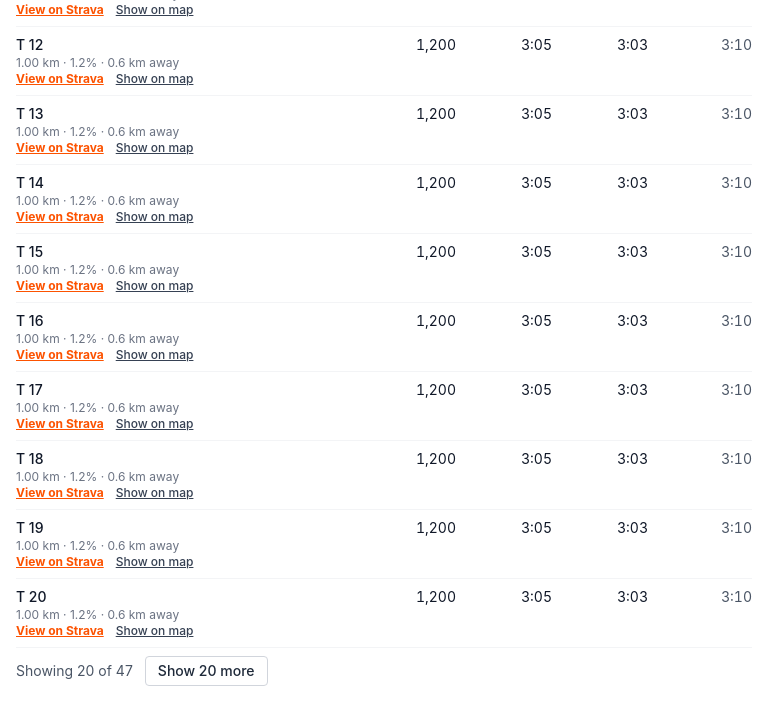
Test case: paged lists › keeps the shown count through a poll that reorders the list
(page scrolled)
expect the text "Showing 20 of 47" is shown: met, box left=16, top=661, right=133, bottom=681
Step 1. Click the button "Show 20 more" → (206, 671), box left=145, top=656, right=268, bottom=686
Wait 5000 ms
(page scrolled)
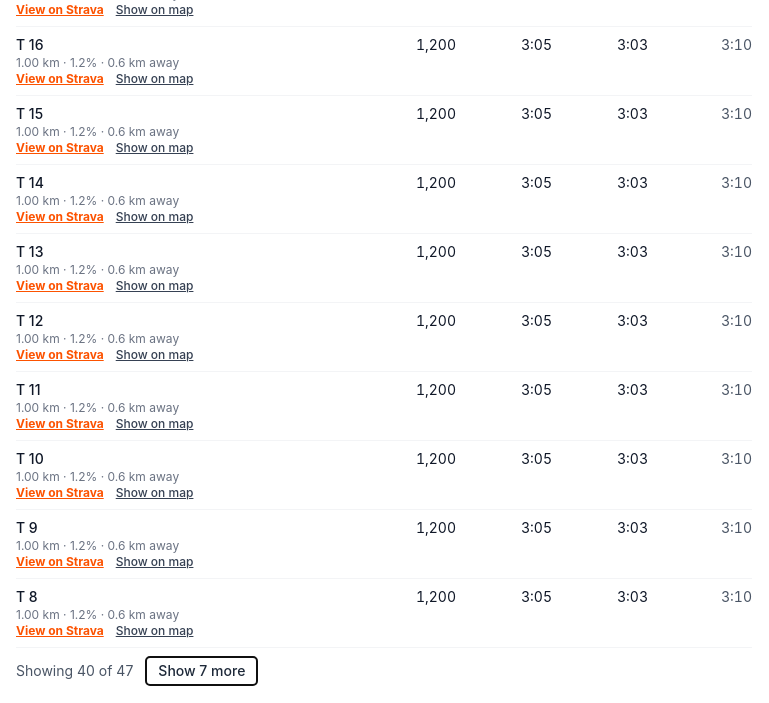
expect the text "Showing 40 of 47" is shown: met, box left=16, top=661, right=133, bottom=681
